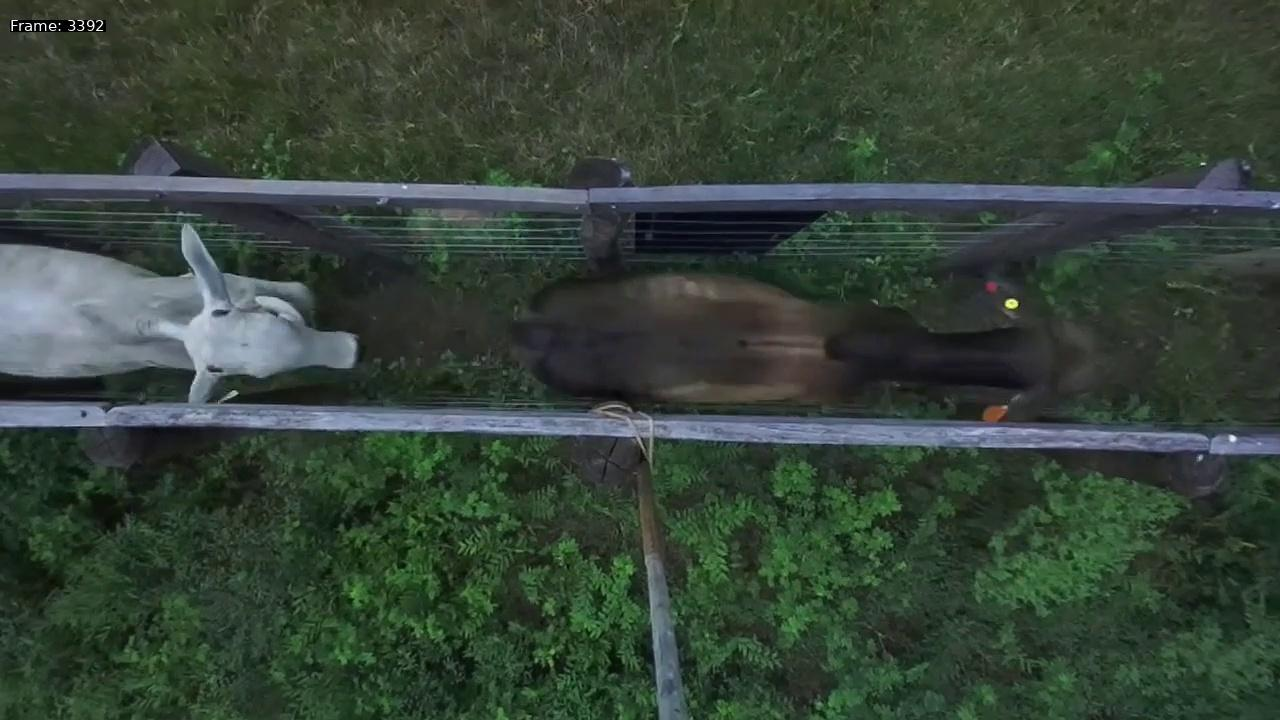cattle: (510, 242, 1131, 438)
